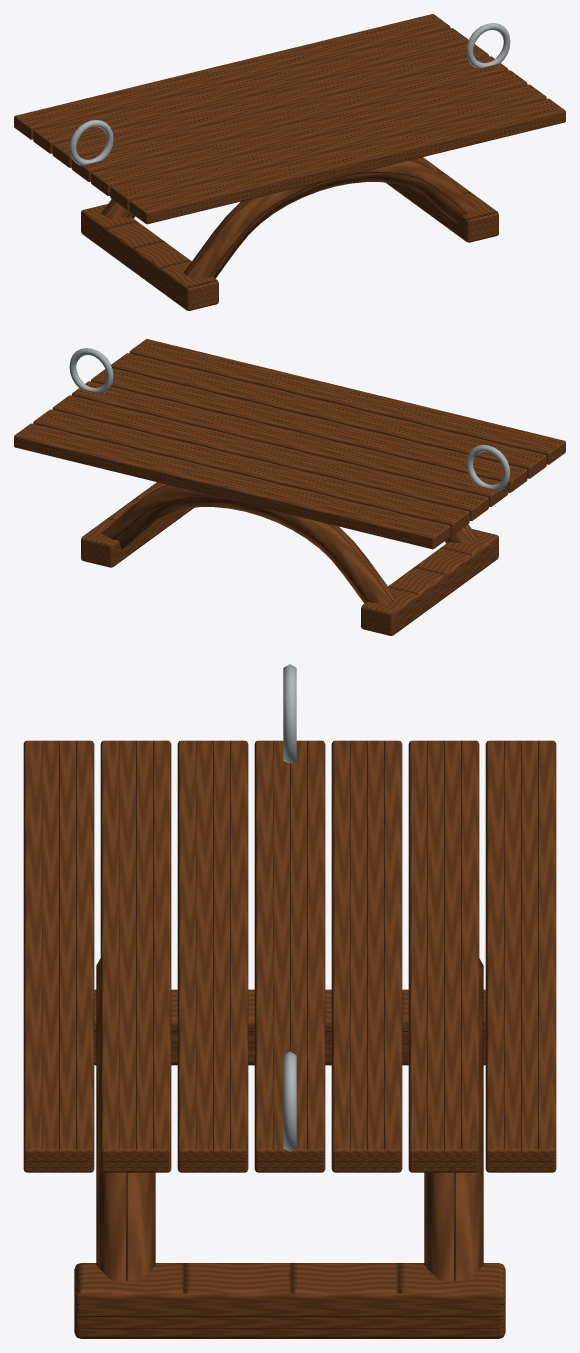
File: creature-husbandry-and-transport-light-cargo-platform-5438fe8d__24024.glb
The picture shows the model from 3 angles, top to bottom: view 1: azimuth 30°, elevation 25°; view 2: azimuth 150°, elevation 25°; view 3: azimuth 270°, elevation 25°; orthographic projection. The views are drawn at different scales.
Parts seen in each view (by area): view 1: light-cargo-platform; view 2: light-cargo-platform; view 3: light-cargo-platform.
Boxes of the visible parts, x1,y1,x2,y2 form: light-cargo-platform: (14, 14, 565, 310); light-cargo-platform: (14, 339, 565, 635); light-cargo-platform: (23, 664, 556, 1338).
Size of the model in its own units: 1.89 by 0.668 by 0.988.
Materials: 2 (1 with a texture image).
